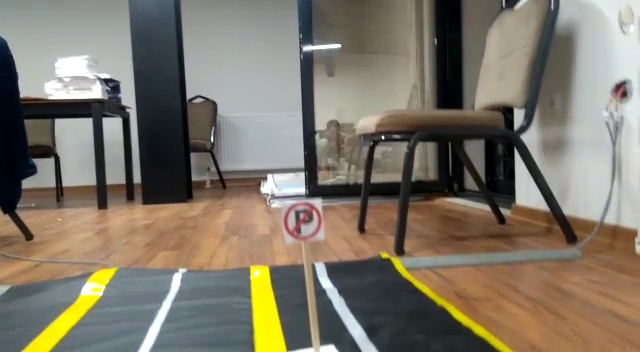park_yapilmaz: (282, 204, 324, 241)
